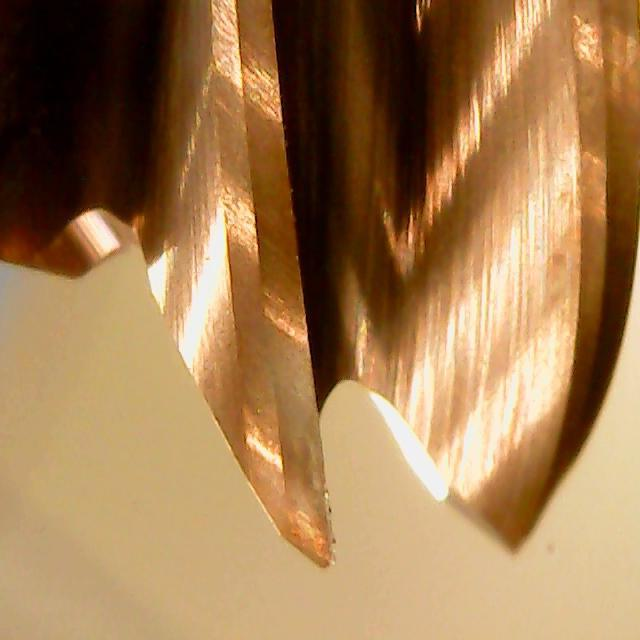Tool-wear-class-0: (214, 217, 344, 573)
